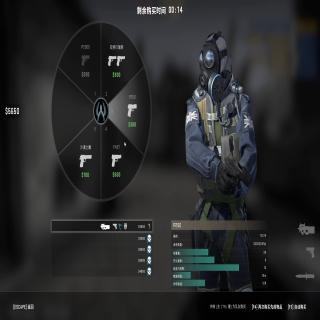CT-Body: (187, 28, 257, 219)
CT-Head: (199, 30, 227, 90)
